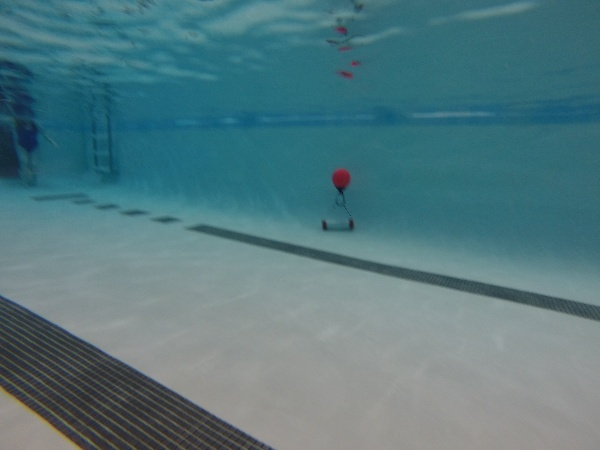buoy_red: (330, 166, 352, 195)
